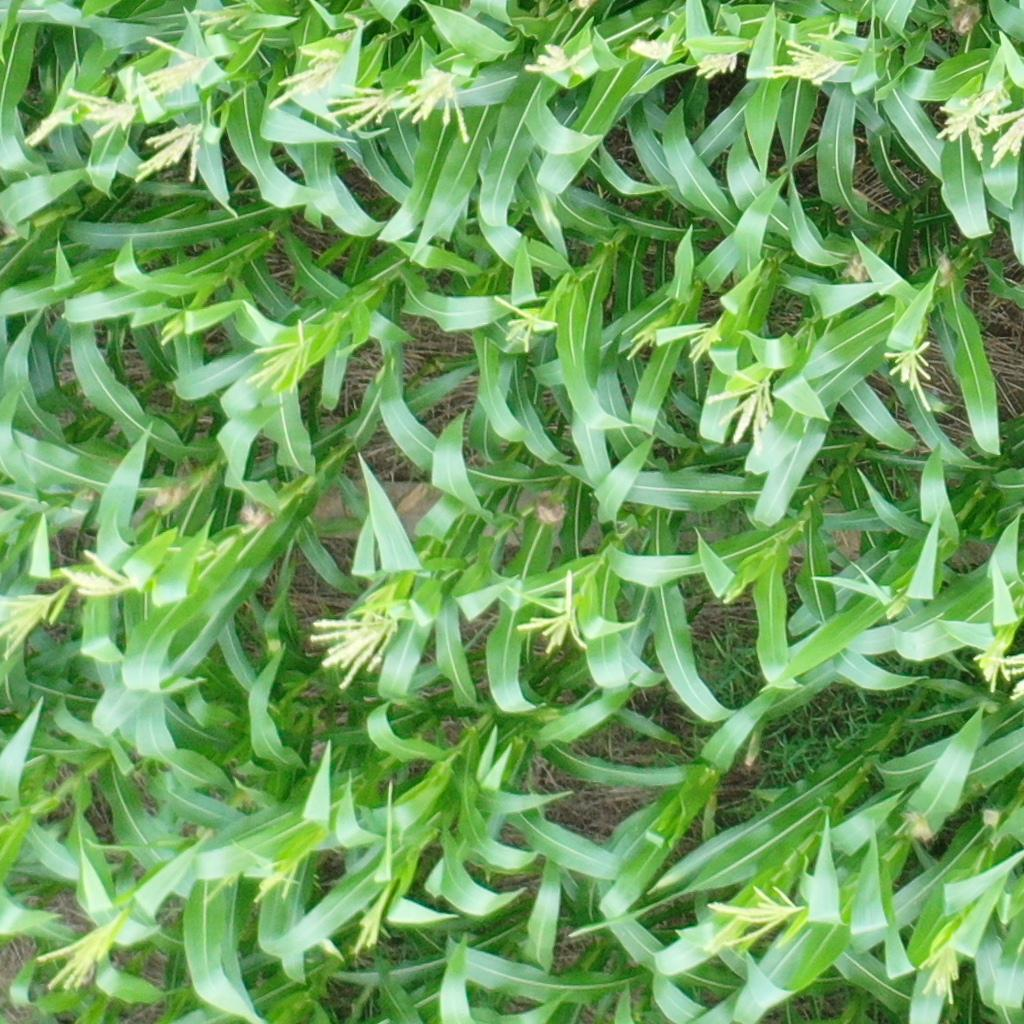Tassel: (36, 906, 126, 992), (704, 364, 780, 457), (309, 615, 398, 693), (394, 64, 477, 145), (512, 570, 592, 654), (126, 34, 224, 101), (705, 886, 805, 947), (244, 316, 310, 396), (269, 44, 341, 109), (937, 91, 1000, 163), (490, 293, 560, 357), (59, 547, 138, 602), (325, 78, 401, 134), (880, 338, 935, 415), (134, 123, 205, 182), (62, 87, 140, 138), (766, 40, 847, 89), (1, 593, 56, 659), (970, 639, 1024, 704), (915, 936, 962, 1004), (353, 883, 394, 953), (521, 41, 593, 77), (961, 81, 1012, 129), (251, 858, 303, 904), (192, 1, 267, 32), (21, 103, 75, 146), (986, 108, 1024, 169), (352, 585, 406, 626), (622, 314, 662, 363), (630, 33, 677, 66), (688, 323, 724, 362), (334, 10, 377, 42), (695, 50, 739, 78), (155, 314, 187, 348), (807, 20, 843, 42)
